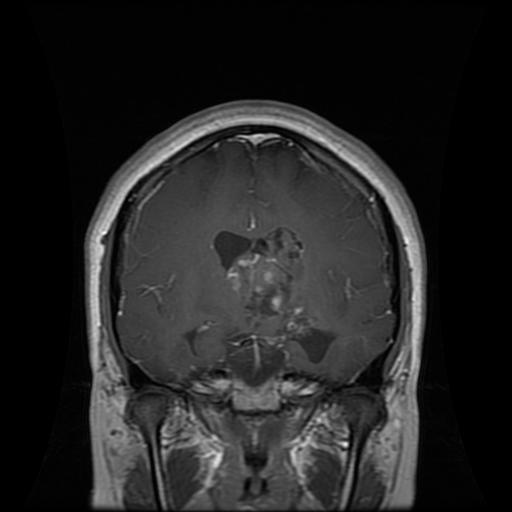Gliomia_tumour: (212, 224, 342, 363)
